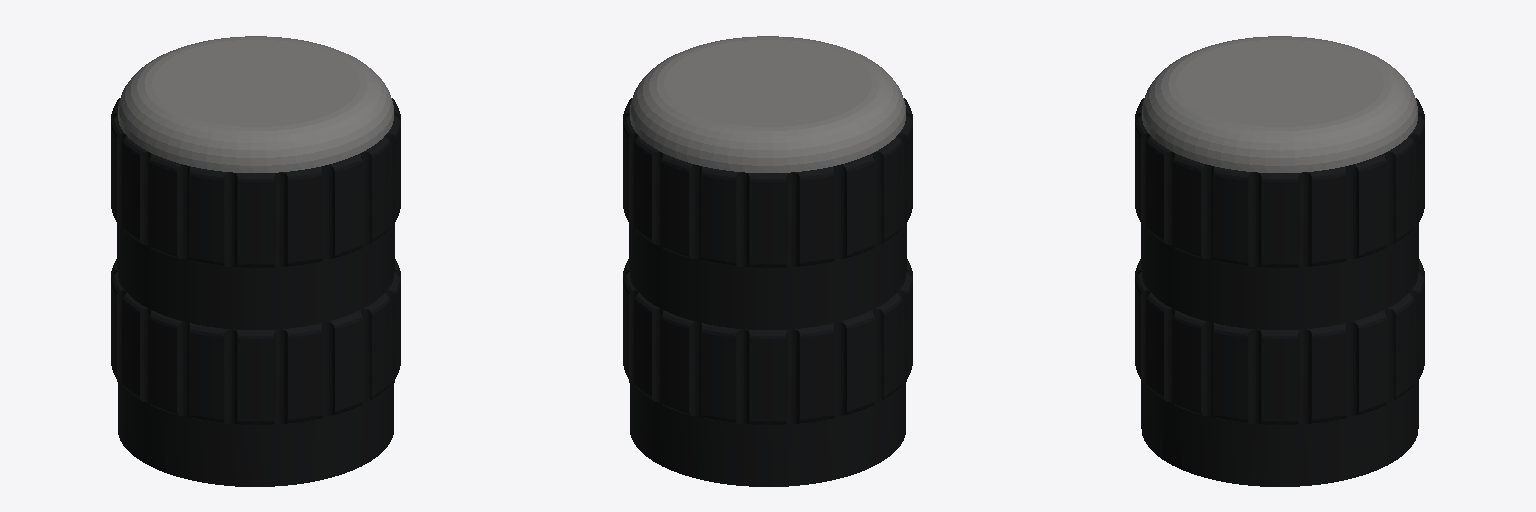
The model's file is scanner.obj.
The picture shows the model from 3 angles: view 1: azimuth 30°, elevation 25°; view 2: azimuth 150°, elevation 25°; view 3: azimuth 270°, elevation 25°; orthographic projection.
Visible parts, largest first — view 1: scanner_body; view 2: scanner_body; view 3: scanner_body.
Part boxes in pixels (x1,y1,x2,y2): scanner_body: (111,36,400,486); scanner_body: (623,36,912,486); scanner_body: (1135,36,1424,486).
Size of the model in its own units: 0.0839 by 0.11 by 0.0839.